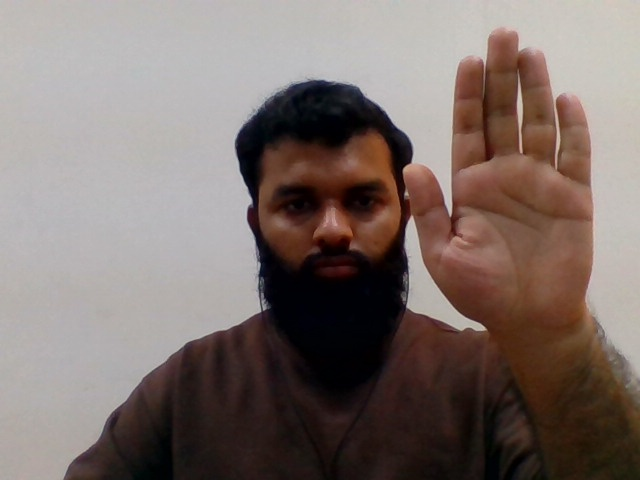Hello: (407, 22, 611, 343)
